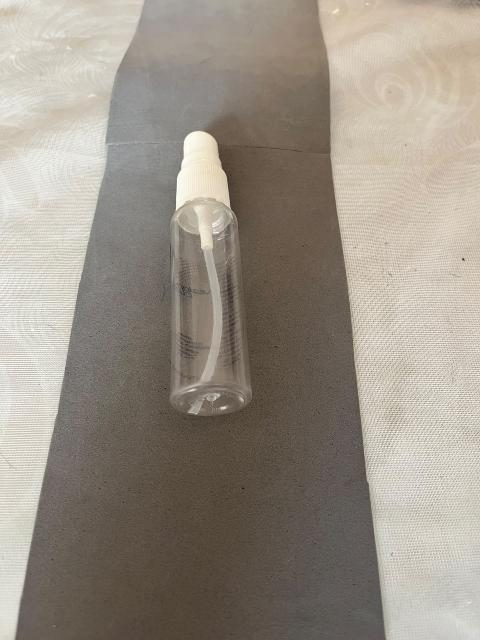PET: (123, 82, 303, 491)
